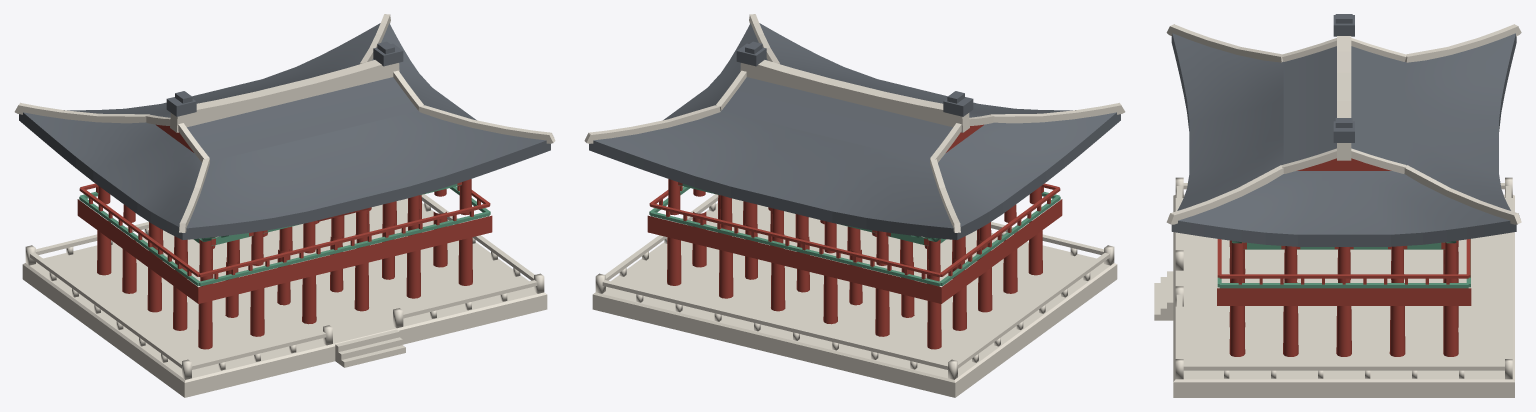
The model's file is seoul-bosingak.glb.
The picture shows the model from 3 angles, left to right: view 1: azimuth 30°, elevation 25°; view 2: azimuth 150°, elevation 25°; view 3: azimuth 270°, elevation 25°; orthographic projection. The views are drawn at different scales.
Visible parts, largest first — view 1: Bosingak; view 2: Bosingak; view 3: Bosingak.
Boxes of the visible parts, x1,y1,x2,y2 form: Bosingak: (14, 14, 555, 397); Bosingak: (584, 14, 1125, 397); Bosingak: (1154, 14, 1521, 397).
Bounding box in the file's own units: 25.76 × 14.65 × 20.66.
